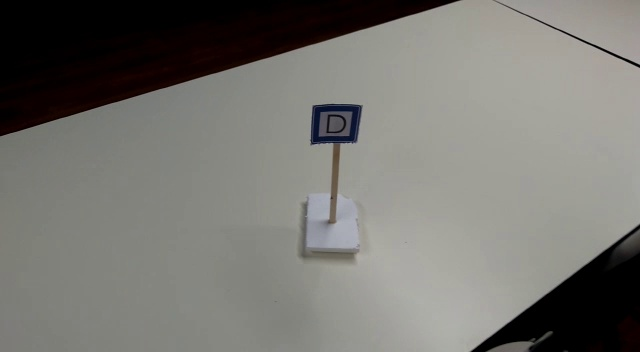durak: (312, 103, 359, 144)
